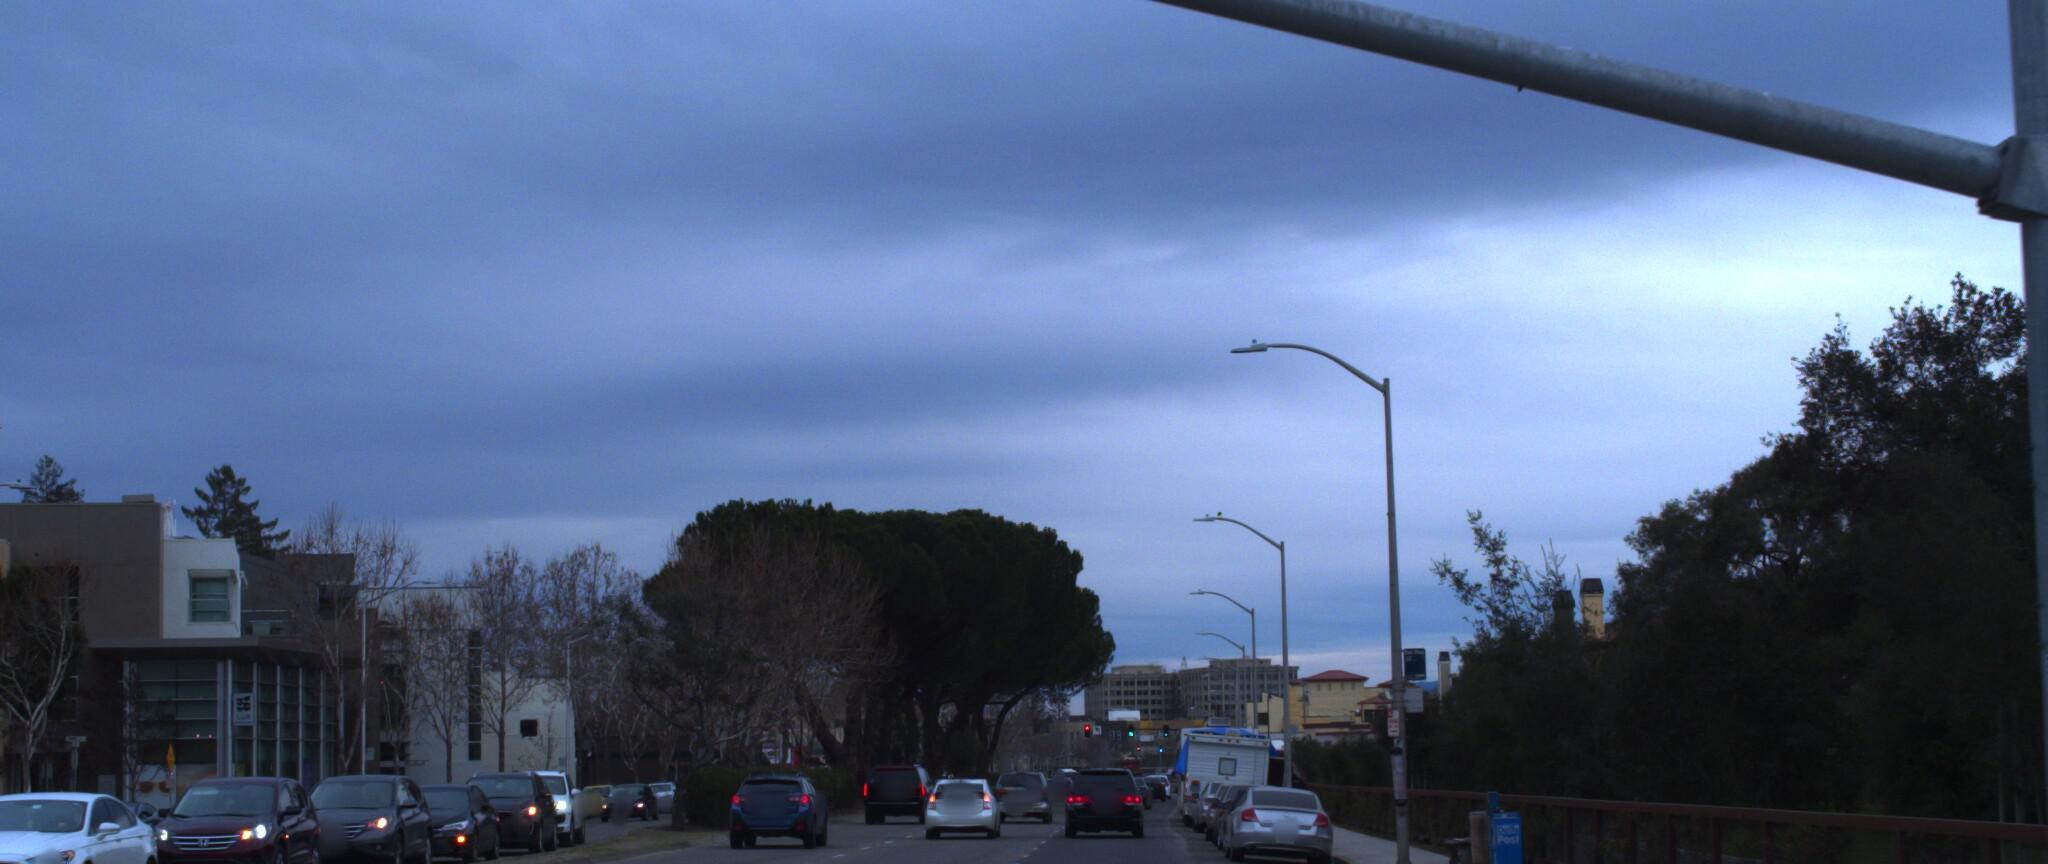car: (140, 758, 334, 864), (274, 756, 443, 864), (0, 774, 180, 864), (368, 767, 513, 855), (441, 752, 566, 843), (479, 752, 590, 835), (1213, 767, 1324, 851), (720, 757, 828, 837), (1058, 758, 1140, 830), (917, 760, 1002, 826)
